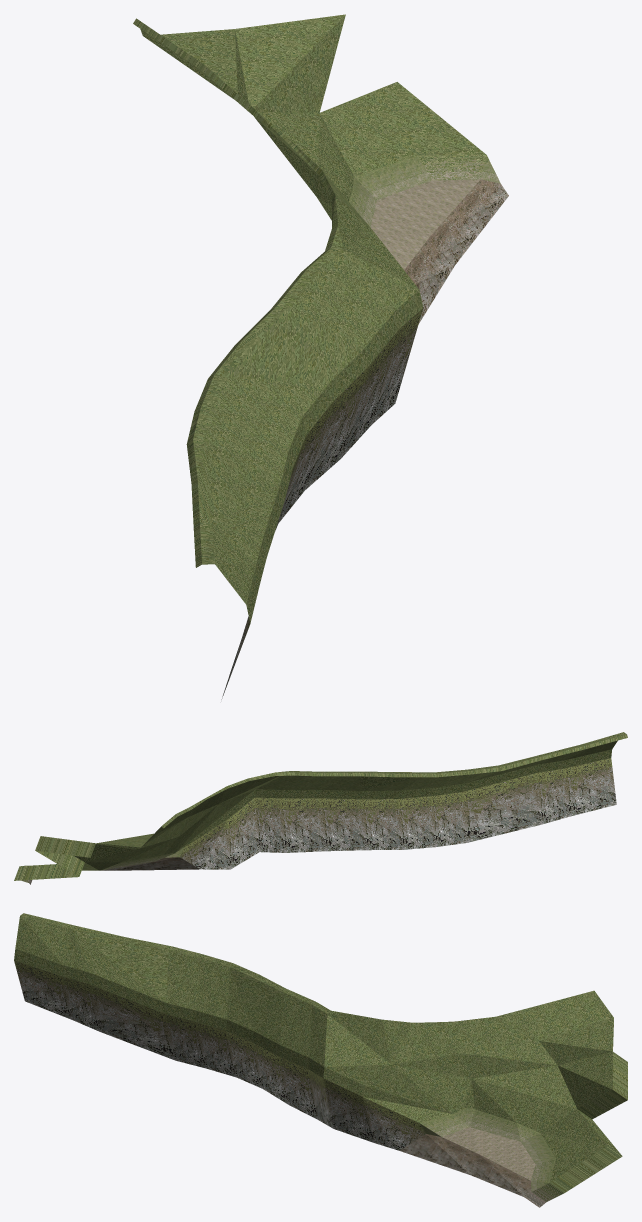
Rendered from lod_sfshill10b.obj.
3 renders of one model, top to bottom at view 1: azimuth 30°, elevation 25°; view 2: azimuth 150°, elevation 25°; view 3: azimuth 270°, elevation 25°, orthographic. The views are drawn at different scales.
Parts seen in each view (by area): view 1: lod_sfshill10b; view 2: lod_sfshill10b; view 3: lod_sfshill10b.
Boxes of the visible parts, x1,y1,x2,y2 form: lod_sfshill10b: (133, 14, 508, 699); lod_sfshill10b: (14, 732, 627, 884); lod_sfshill10b: (14, 913, 627, 1207).
Size of the model in its own units: 209 by 64.42 by 259.
Materials: 6 (6 with a texture image).
